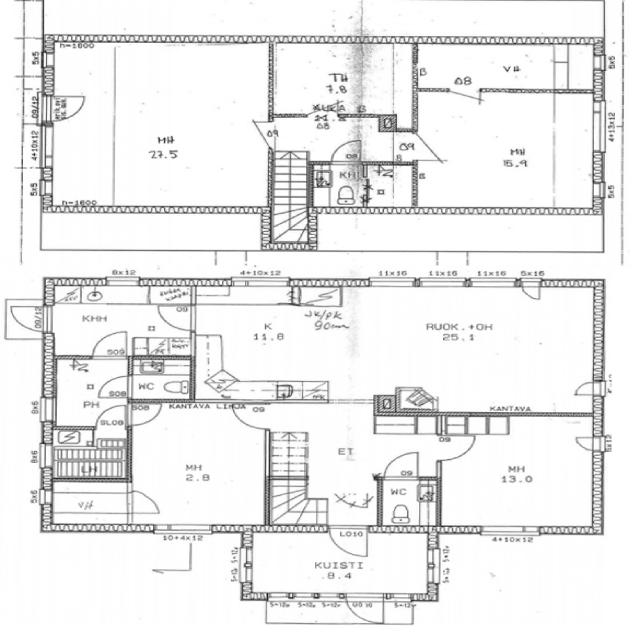door: (326, 524, 371, 559), (6, 302, 52, 334), (379, 449, 423, 482), (89, 329, 133, 360), (41, 94, 88, 122), (230, 401, 272, 432), (344, 593, 386, 624), (154, 302, 197, 332), (436, 433, 480, 462), (125, 489, 164, 516), (128, 400, 163, 427), (94, 403, 129, 430), (96, 376, 132, 400), (330, 140, 362, 164), (569, 378, 604, 399), (518, 276, 544, 303), (571, 434, 601, 452)
window: (587, 100, 609, 154), (36, 124, 58, 172), (478, 523, 544, 538), (153, 521, 216, 536), (228, 276, 291, 290), (416, 276, 470, 290), (365, 276, 418, 290), (466, 276, 518, 290), (238, 544, 255, 586), (446, 85, 484, 102), (426, 548, 441, 584), (40, 396, 58, 423), (103, 276, 143, 288), (385, 592, 414, 606), (266, 590, 294, 604), (37, 442, 52, 468), (38, 175, 54, 198), (591, 180, 606, 201), (39, 487, 54, 507), (592, 53, 606, 73)
zone: (52, 35, 268, 214), (351, 285, 602, 414), (415, 90, 595, 209), (273, 400, 436, 526), (438, 416, 602, 530), (194, 289, 354, 402), (127, 404, 269, 529), (272, 43, 415, 116), (48, 288, 192, 358), (417, 43, 597, 92), (273, 114, 418, 163), (51, 355, 131, 429), (47, 480, 131, 531), (50, 427, 128, 479), (126, 358, 194, 404), (378, 478, 438, 528), (309, 163, 365, 209), (366, 163, 416, 208), (268, 478, 311, 524), (271, 211, 310, 245), (42, 94, 88, 122)
